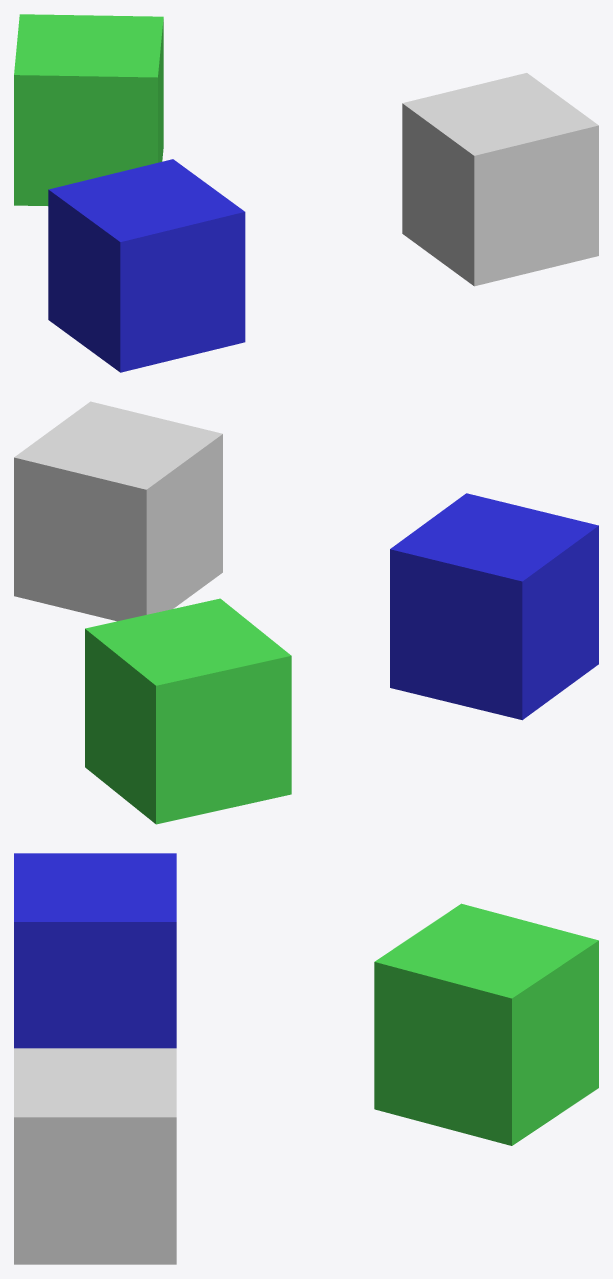
Rendered from optimzed.glb.
The picture shows the model from 3 angles, top to bottom: view 1: azimuth 30°, elevation 25°; view 2: azimuth 150°, elevation 25°; view 3: azimuth 270°, elevation 25°; orthographic projection. The views are drawn at different scales.
Parts seen in each view (by area): view 1: Cube.001, Cube, Cube.002; view 2: Cube.001, Cube.002, Cube; view 3: Cube.002, Cube, Cube.001.
Boxes of the visible parts, x1,y1,x2,y2 form: Cube.001: [48, 159, 245, 372]; Cube: [402, 73, 598, 286]; Cube.002: [14, 14, 163, 205]; Cube.001: [390, 493, 598, 720]; Cube.002: [85, 598, 291, 824]; Cube: [14, 401, 222, 621]; Cube.002: [374, 903, 598, 1145]; Cube: [14, 1048, 176, 1264]; Cube.001: [14, 853, 176, 1048].
Size of the model in its own units: 7.67 by 2 by 7.19.
